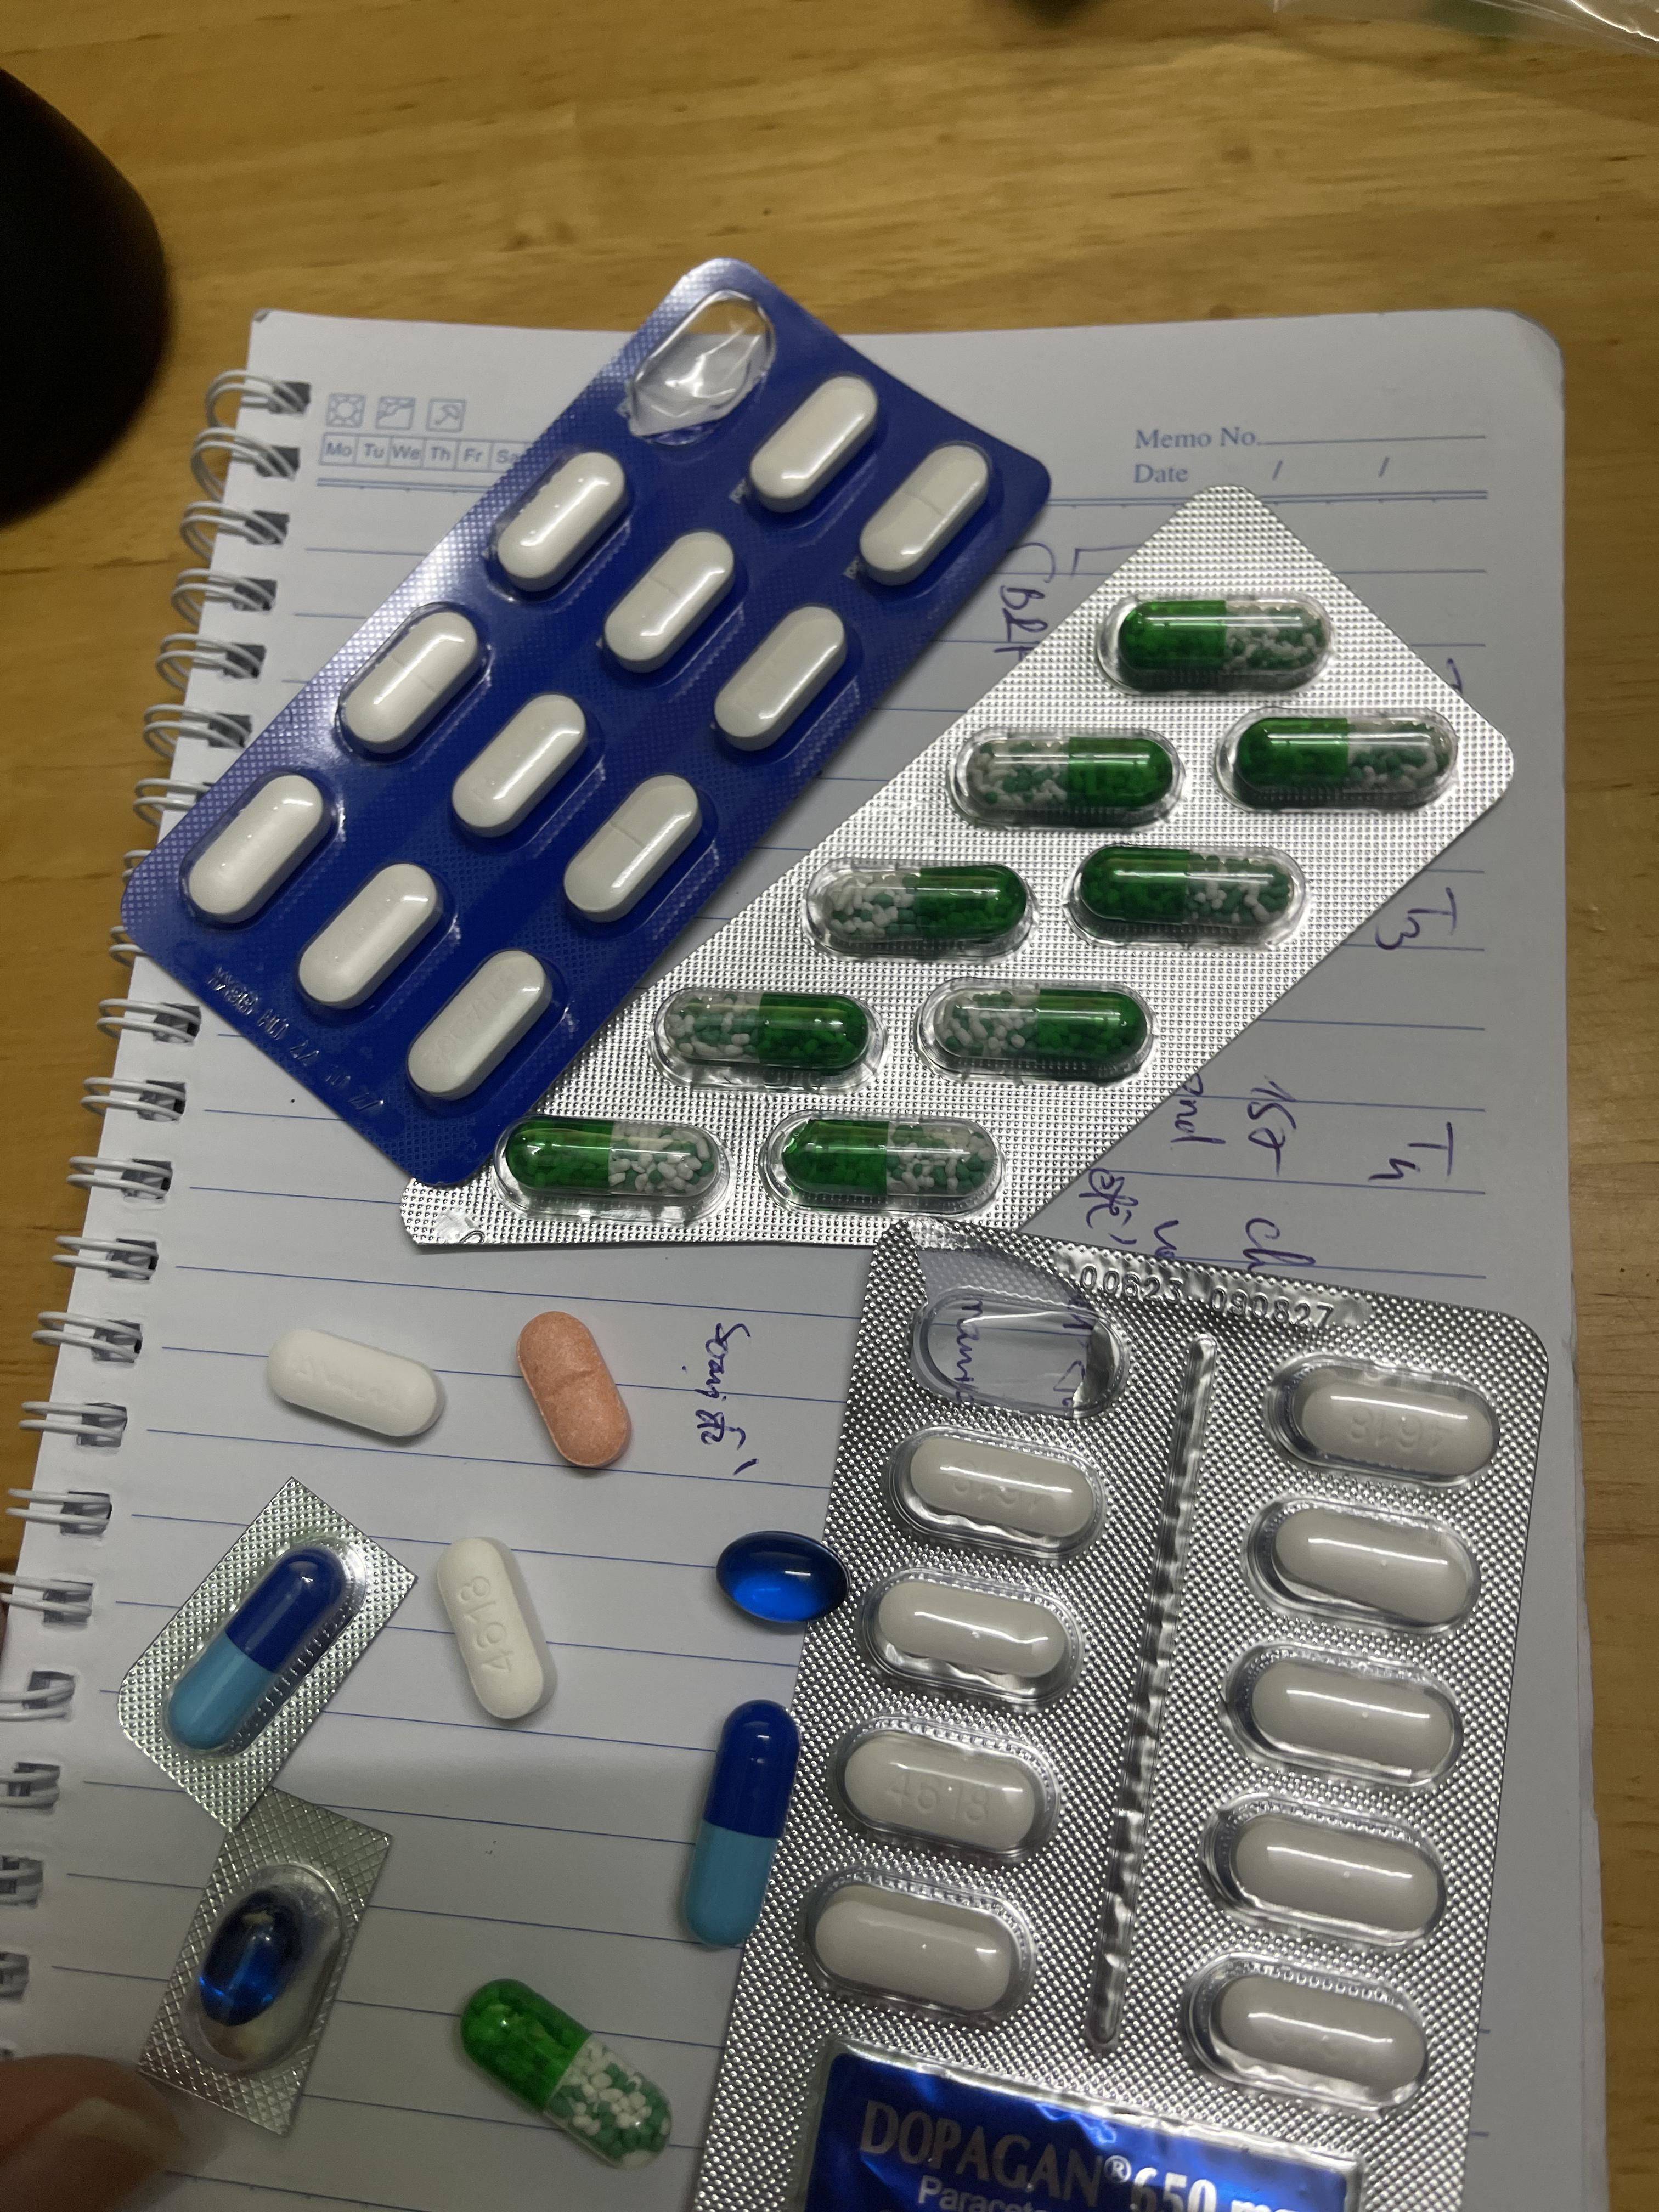Lincomyxin_500mg: (195, 1895, 300, 2024), (716, 1534, 843, 1625)
Loratadine_10mg: (518, 1312, 629, 1472)
Paracetamol_350mg: (295, 860, 443, 1010), (183, 775, 329, 927), (338, 608, 484, 754), (410, 953, 554, 1101), (561, 775, 702, 923), (451, 695, 592, 838), (713, 604, 850, 751), (270, 1329, 443, 1442), (493, 449, 631, 589), (603, 533, 739, 674), (856, 441, 990, 583), (748, 374, 878, 512)
Paracetamol_500mg: (1187, 1956, 1432, 2107), (1208, 1796, 1450, 1942), (1229, 1644, 1467, 1785), (805, 1878, 1026, 2020), (1249, 1496, 1483, 1630), (838, 1723, 1053, 1860), (1269, 1359, 1500, 1482), (866, 1573, 1077, 1700), (894, 1430, 1101, 1550), (436, 1538, 554, 1723)
Paracetamol_650mg: (464, 1987, 664, 2158), (1237, 714, 1446, 796), (782, 1120, 988, 1202), (509, 1118, 714, 1198), (667, 993, 866, 1073), (1119, 599, 1319, 676), (824, 871, 1018, 948), (936, 991, 1136, 1064), (1084, 852, 1283, 925), (972, 738, 1164, 812)
pill: (166, 1554, 345, 1749), (683, 1707, 800, 1940)
